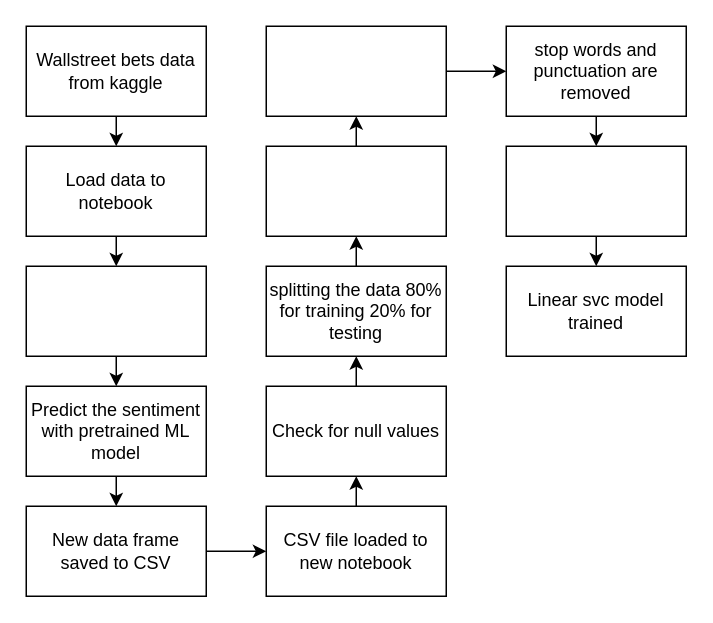
Some shapes in this 713 by 623 pixel diagram are drawn without their labels. The centre of each missing label's shape, as x and y in pixels:
Converting texts to tokens: point (355, 190)
lemmatizing tokens to base form: point (355, 70)
Removing all Columns except for the title column: point (115, 310)
Tokens are vectorized using tfidf: point (595, 190)
